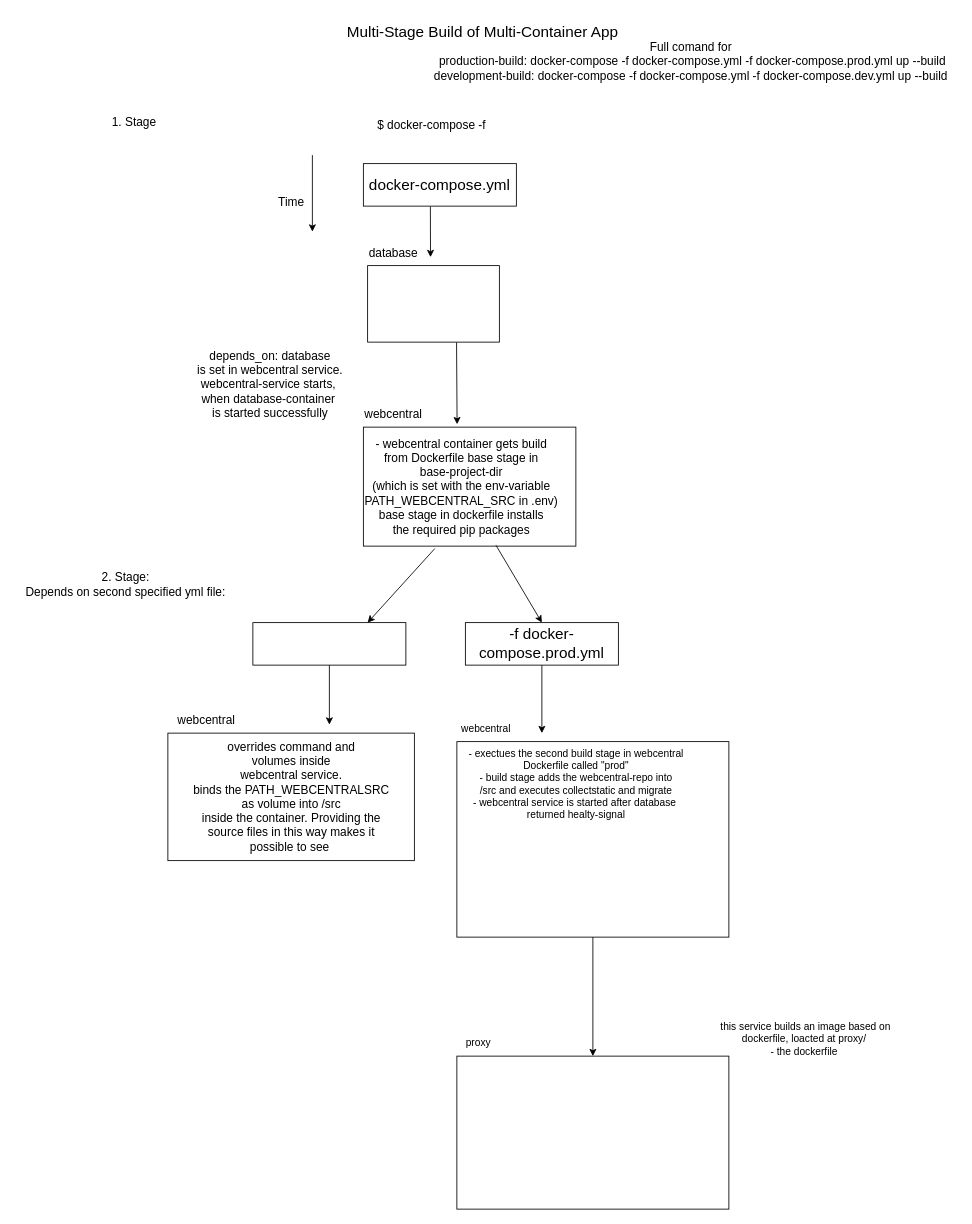
This 972x1224 diagram has some shape labels left out. Each missing label, with the centre of its shape:
- pulls postgres image - sets ports - binds pgdata-volume: point (433, 303)
-f docker-compose.dev.yml: point (329, 643)
